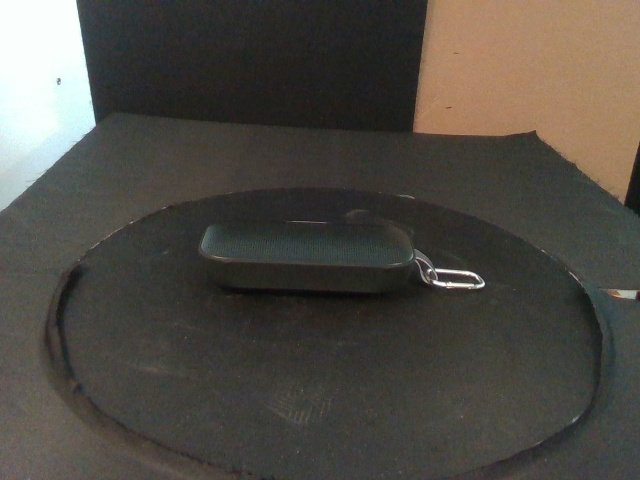speaker: (199, 217, 420, 295)
